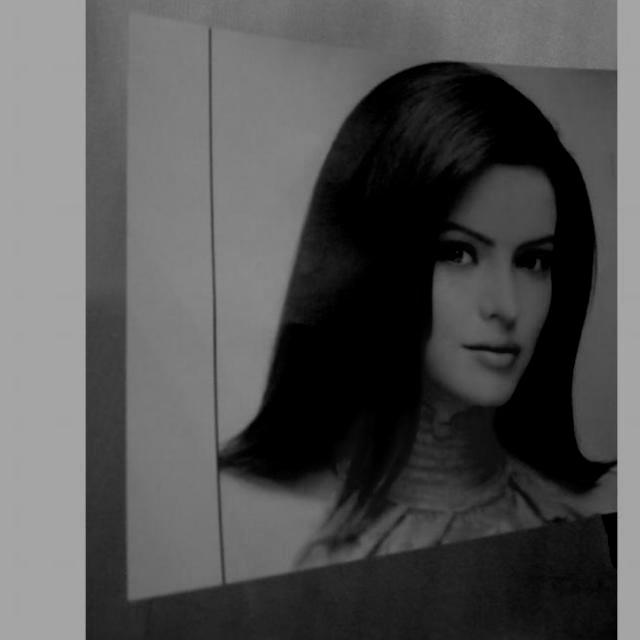fake: (102, 7, 618, 613)
